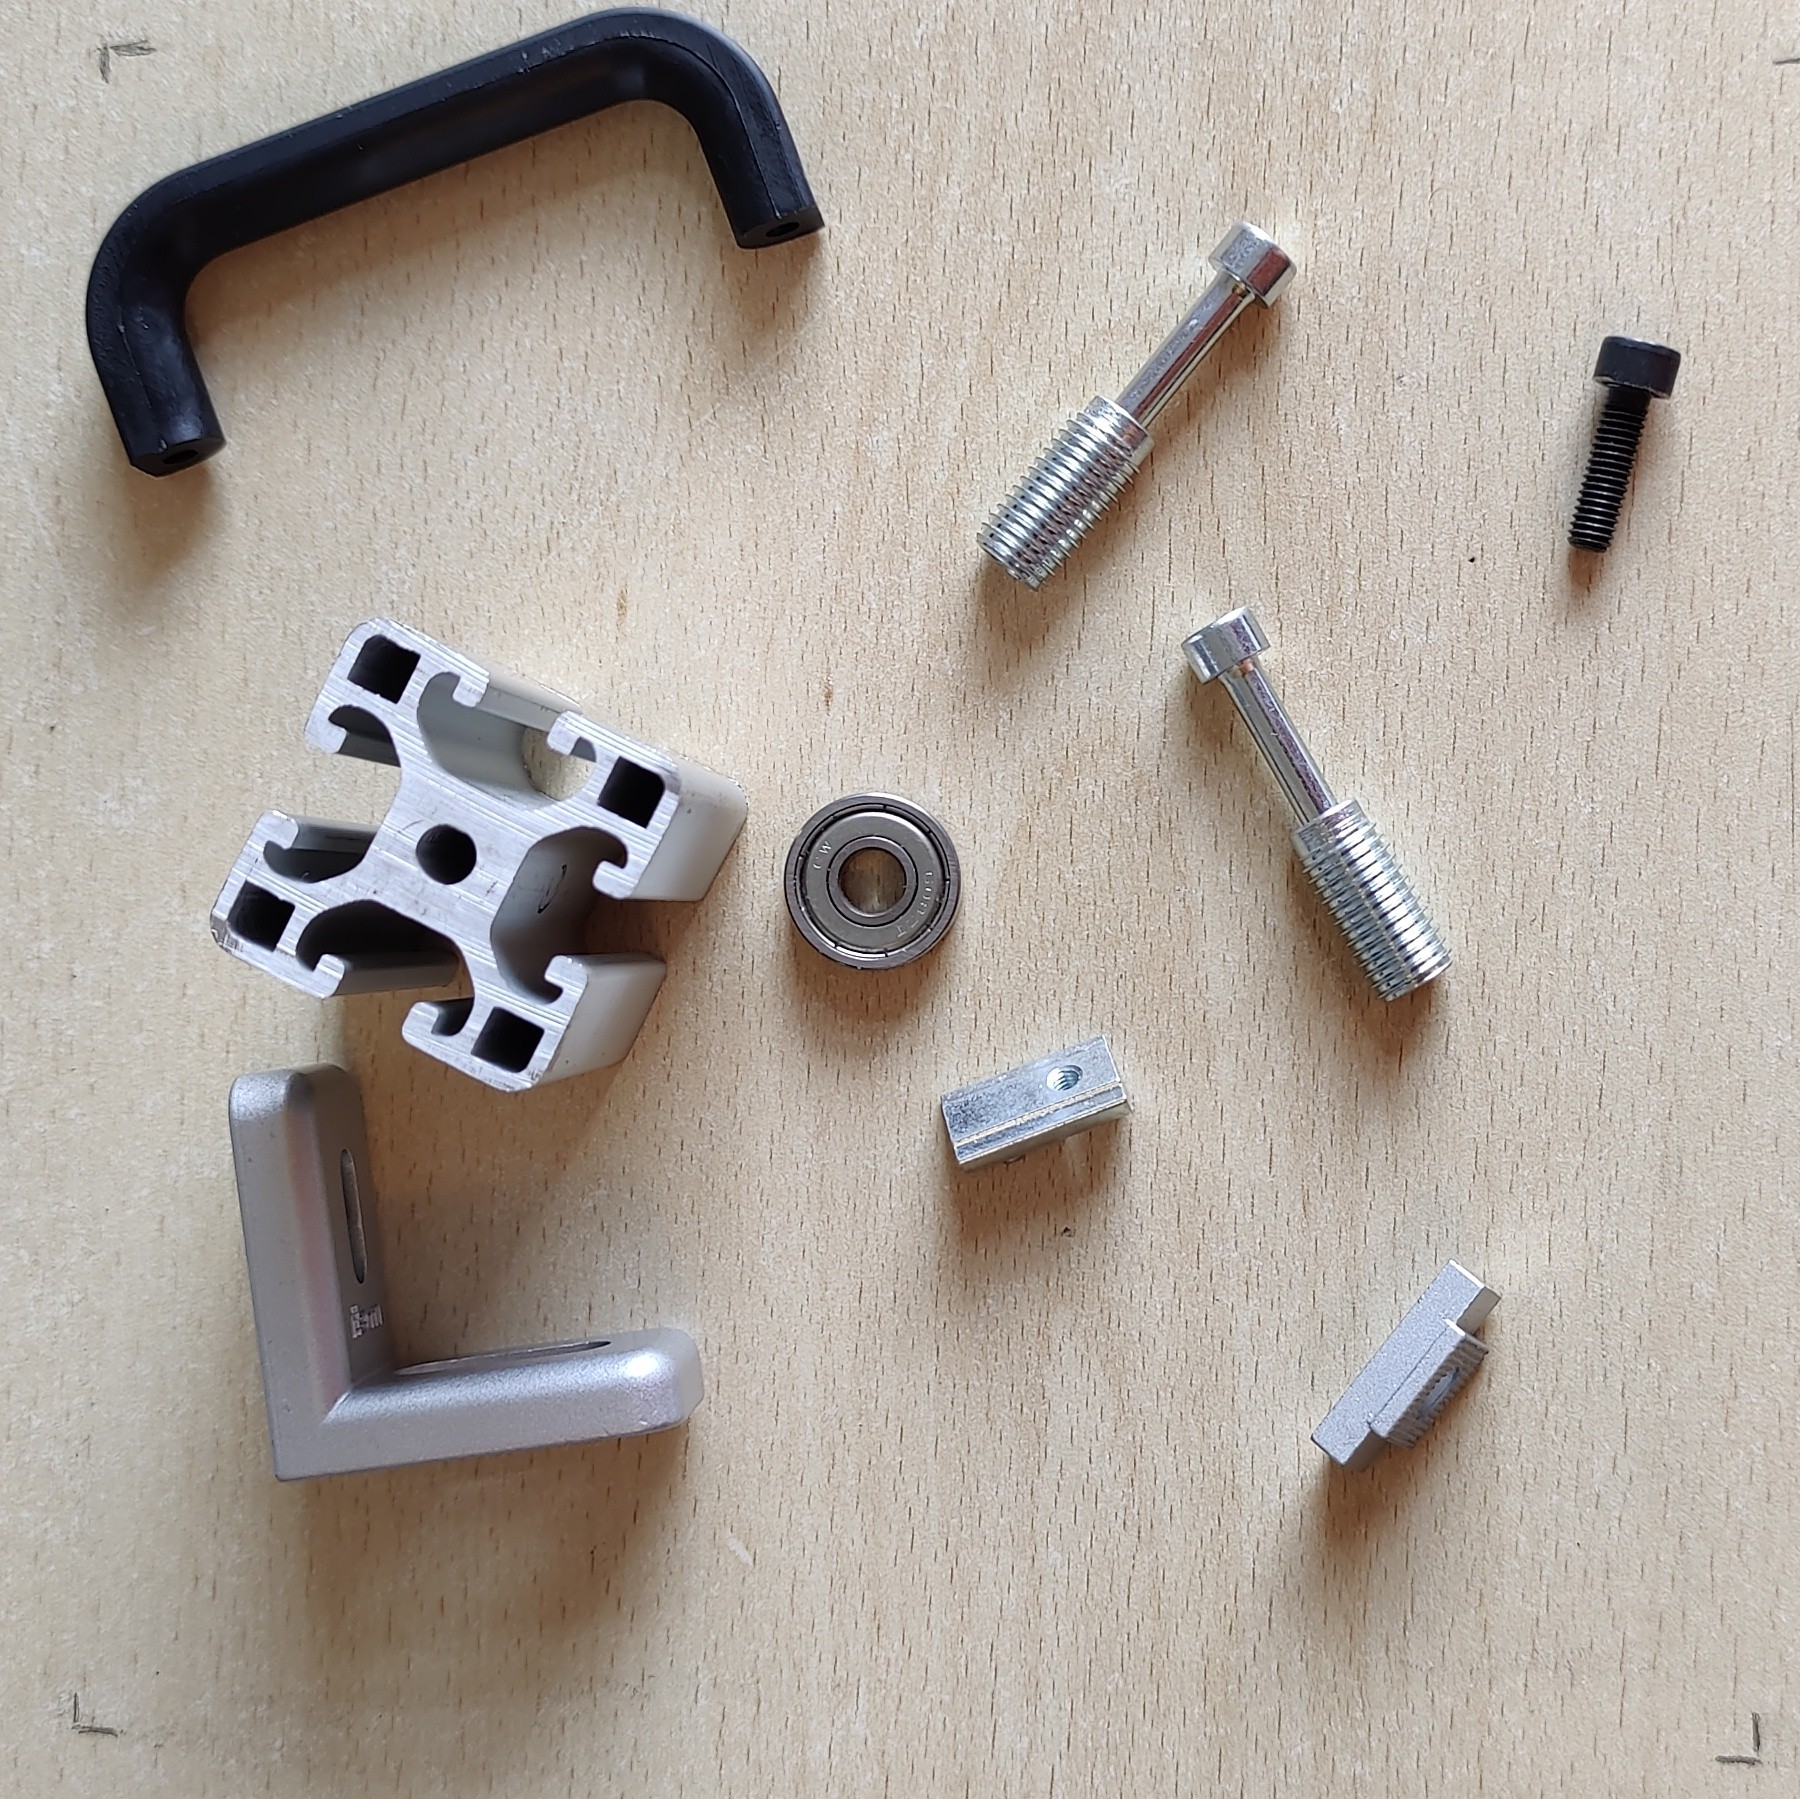Aluminium Extension: (208, 611, 751, 1096)
Ball Bearing: (782, 791, 962, 974)
Multiwinkel: (227, 1059, 703, 1488)
Pull Handle: (82, 7, 828, 483)
Shoulder Socket Head Cap Screw: (972, 216, 1298, 595), (1182, 601, 1461, 1007)
Socket Head Cap Screw: (1561, 331, 1681, 555)
T Nut Square: (1304, 1259, 1507, 1478)
T Spring Nut: (939, 1033, 1136, 1178)
